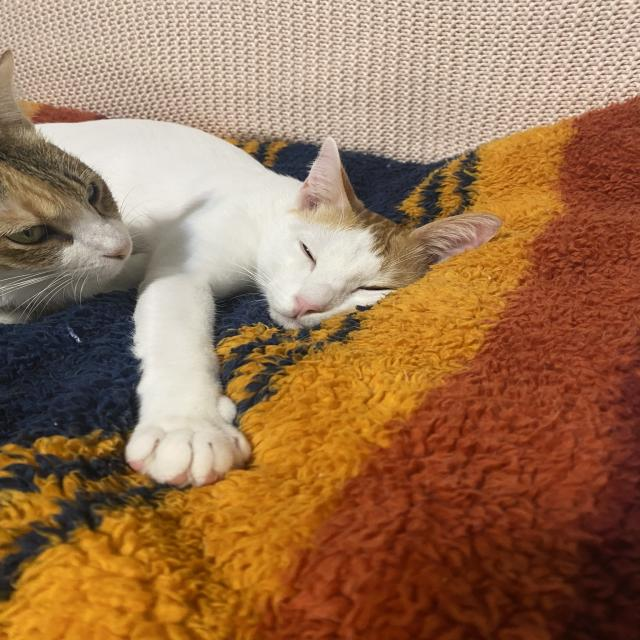cat1: (119, 117, 502, 488)
cat2: (0, 49, 132, 324)
